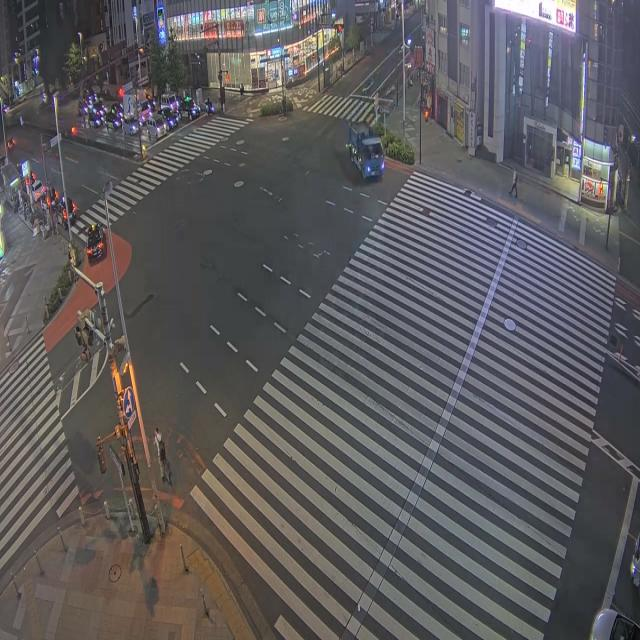car: (591, 609, 639, 639), (86, 224, 105, 261), (57, 196, 77, 224), (146, 116, 167, 140), (178, 96, 199, 119), (158, 107, 178, 129), (122, 114, 139, 135), (138, 101, 153, 124), (32, 180, 46, 202), (105, 112, 122, 130), (91, 100, 107, 118), (110, 102, 124, 118), (89, 112, 103, 127), (78, 100, 90, 115), (7, 138, 15, 150)
motorcycle: (631, 537, 639, 586), (204, 100, 215, 114)
van: (160, 94, 178, 111)
